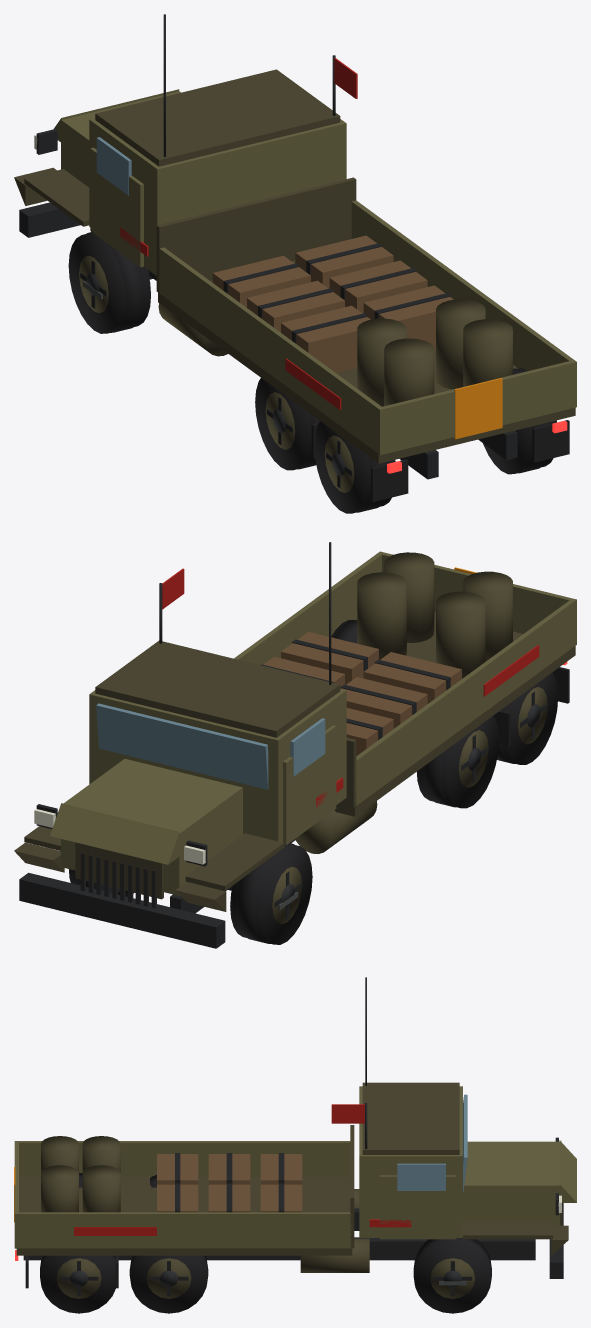
The model's file is Supply_Red.fbx.
3 renders of one model, top to bottom at view 1: azimuth 30°, elevation 25°; view 2: azimuth 150°, elevation 25°; view 3: azimuth 270°, elevation 25°, orthographic. The views are drawn at different scales.
Parts seen in each view (by area): view 1: Cab, CabRoof, Headboard, BedSideL, Tailgate, BedSideR, BedFloor, DoorL1Panel, TyreL1, AmmoCrate2_0, FuelBarrel2, FuelBarrel3 (+26 smaller); view 2: CabRoof, Bonnet, BedSideL, Cab, Windshield, Bumper, BonnetFront, BedSideR, DoorL1Panel, FuelBarrel1, FuelBarrel0, TyreL1 (+26 smaller); view 3: BedSideR, Bonnet, BedFloor, CabRoof, BedSideL, DoorR1Panel, Cab, TyreR1, FrameRailR, TyreR2, TyreR3, FenderR (+22 smaller).
Part boxes in pixels (left/top/right/bottom): Cab: left=89, top=118, right=346, bottom=275; CabRoof: left=95, top=69, right=340, bottom=166; Headboard: left=156, top=177, right=356, bottom=292; BedSideL: left=159, top=247, right=382, bottom=453; Tailgate: left=378, top=360, right=576, bottom=455; BedSideR: left=351, top=200, right=575, bottom=370; BedFloor: left=158, top=260, right=575, bottom=463; DoorL1Panel: left=90, top=147, right=143, bottom=267; TyreL1: left=68, top=233, right=150, bottom=333; AmmoCrate2_0: left=281, top=305, right=370, bottom=372; FuelBarrel2: left=384, top=338, right=434, bottom=405; FuelBarrel3: left=463, top=319, right=512, bottom=386; CabRoof: left=95, top=640, right=340, bottom=737; Bonnet: left=61, top=759, right=242, bottom=895; BedSideL: left=355, top=599, right=575, bottom=805; Cab: left=89, top=689, right=346, bottom=842; Windshield: left=96, top=703, right=268, bottom=789; Bumper: left=19, top=872, right=225, bottom=948; BonnetFront: left=50, top=803, right=179, bottom=864; BedSideR: left=234, top=552, right=382, bottom=664; DoorL1Panel: left=283, top=725, right=336, bottom=844; FuelBarrel1: left=357, top=572, right=406, bottom=659; FuelBarrel0: left=436, top=591, right=485, bottom=678; TyreL1: left=230, top=844, right=312, bottom=944; BedSideR: left=16, top=1212, right=352, bottom=1248; Bonnet: left=463, top=1141, right=559, bottom=1225; BedFloor: left=16, top=1177, right=352, bottom=1255; CabRoof: left=362, top=1082, right=459, bottom=1154; BedSideL: left=16, top=1141, right=350, bottom=1176; DoorR1Panel: left=380, top=1175, right=456, bottom=1239; Cab: left=359, top=1086, right=462, bottom=1237; TyreR1: left=414, top=1239, right=491, bottom=1313; FrameRailR: left=23, top=1237, right=535, bottom=1260; TyreR2: left=130, top=1255, right=207, bottom=1313; TyreR3: left=40, top=1255, right=115, bottom=1313; FenderR: left=463, top=1220, right=552, bottom=1239.
Size of the model in its own units: 255 by 814 by 430.
